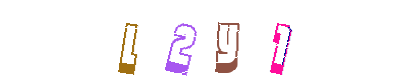1: (238, 0, 318, 80)
2: (150, 0, 230, 80)
L: (145, 0, 225, 80)
Y: (170, 0, 250, 80)
